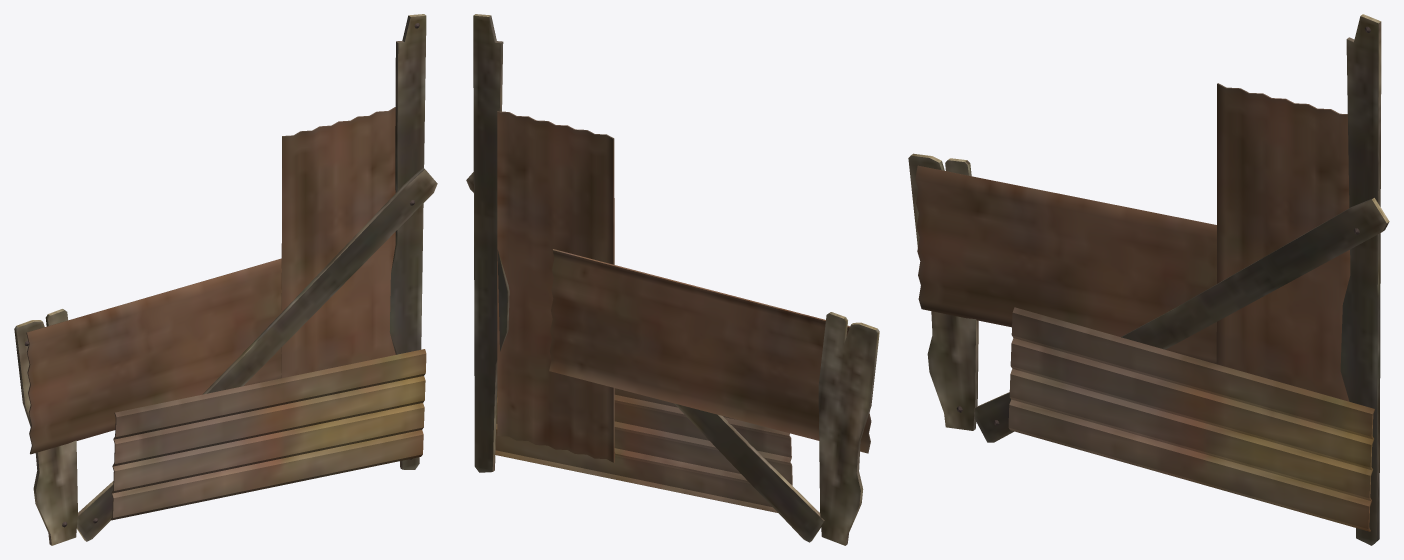
Rendered from cover_d.glb.
The picture shows the model from 3 angles, left to right: view 1: azimuth 30°, elevation 25°; view 2: azimuth 150°, elevation 25°; view 3: azimuth 330°, elevation 25°; orthographic projection. The views are drawn at different scales.
Visible parts, largest first — view 1: cover_d_LOD0; view 2: cover_d_LOD0; view 3: cover_d_LOD0.
Part boxes in pixels (x1,y1,x2,y2): cover_d_LOD0: [14, 14, 437, 545]; cover_d_LOD0: [466, 14, 879, 545]; cover_d_LOD0: [908, 14, 1389, 545].
Size of the model in its own units: 2.89 by 3.03 by 0.1199.
Materials: 1 (1 with a texture image).
